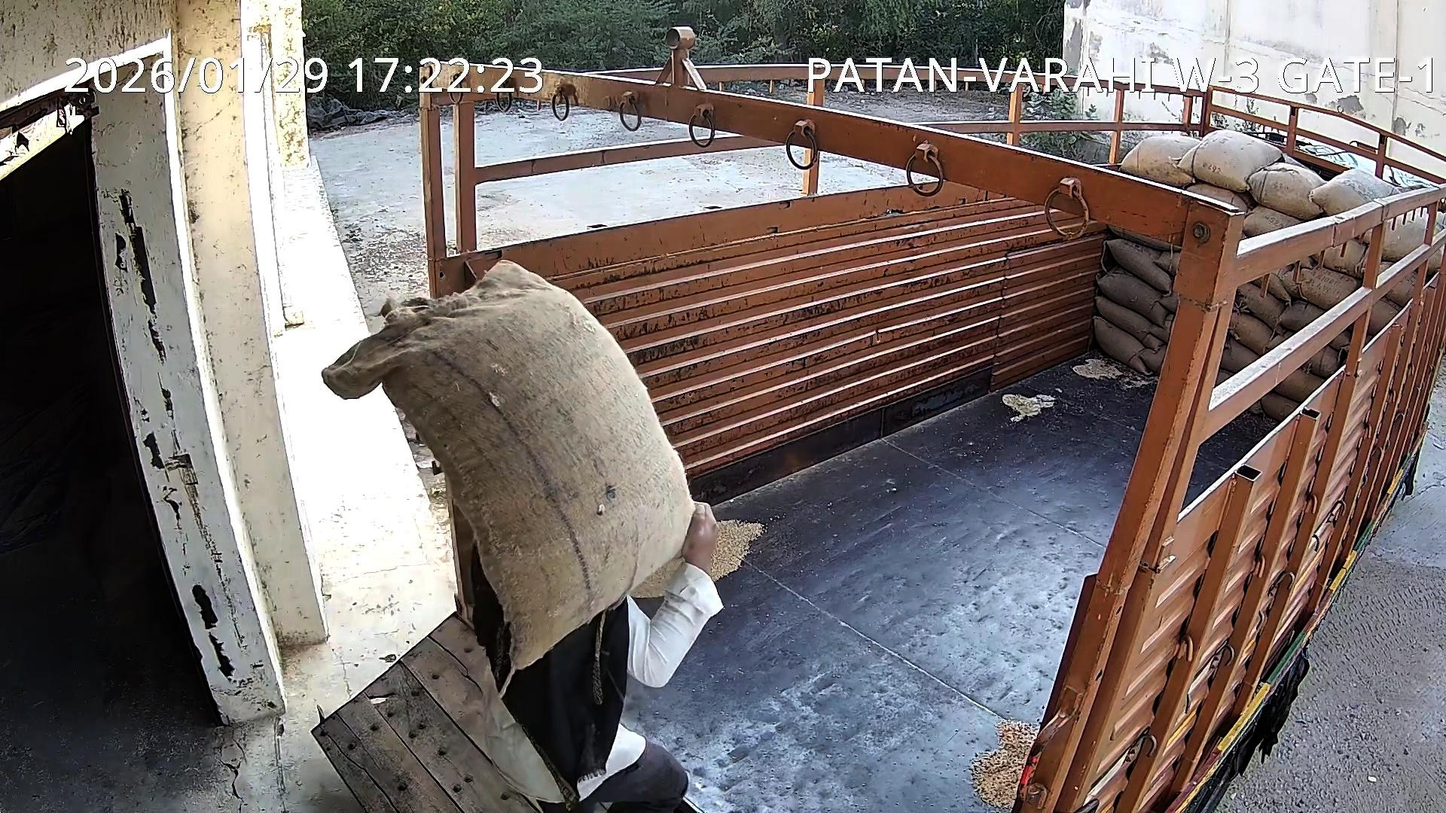Sack: (323, 260, 692, 668)
